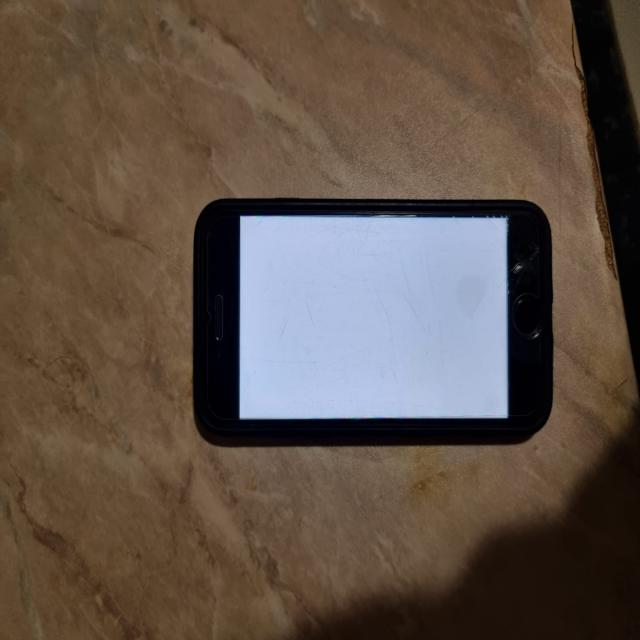Scratches: (243, 213, 506, 411)
